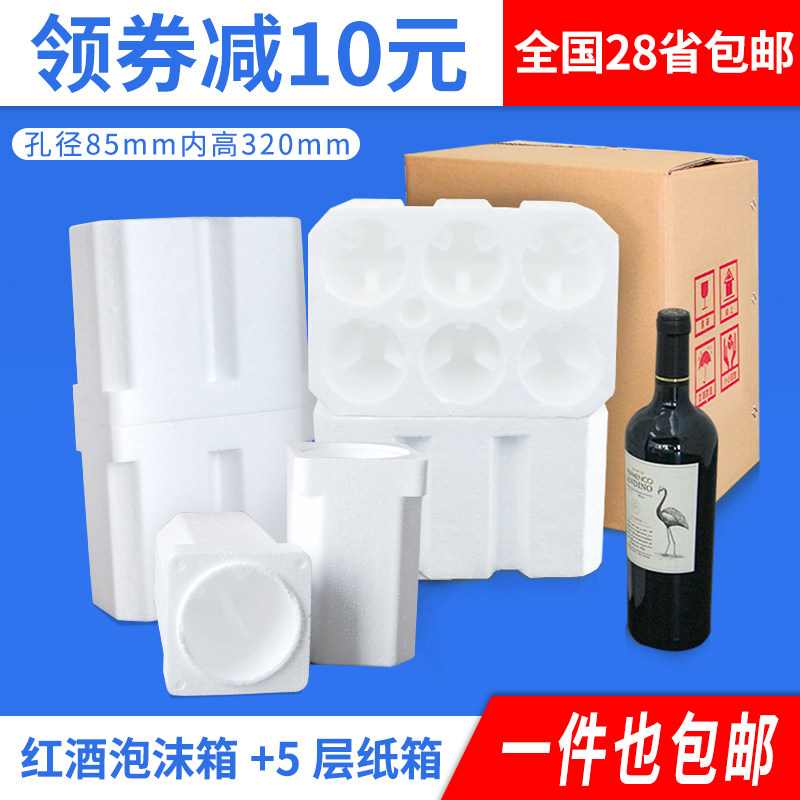Boxes: (70, 201, 618, 620), (154, 439, 428, 696)
